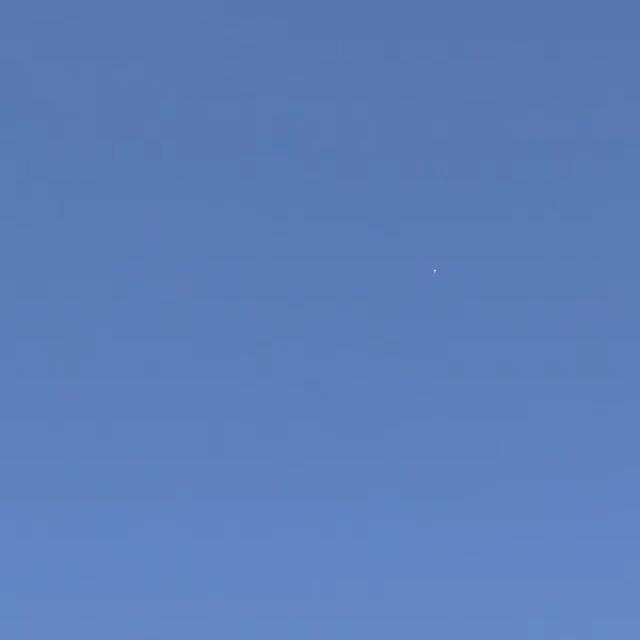AirPlane: (424, 251, 451, 291)
